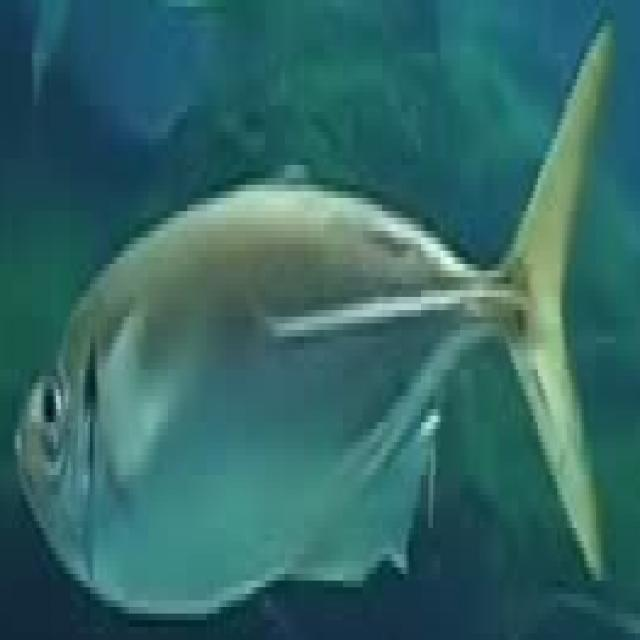fish: (2, 6, 639, 640)
